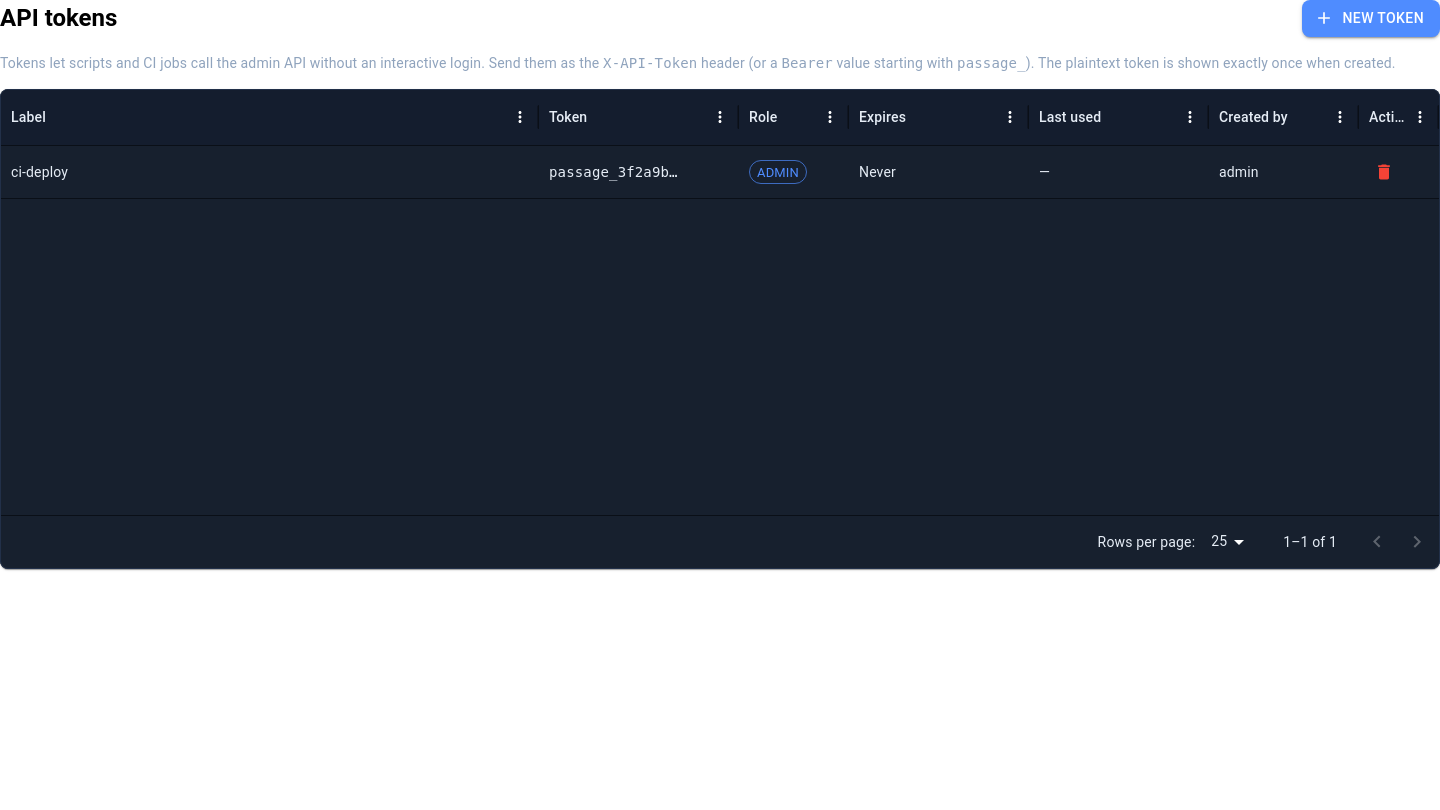
it: ApiTokensPage › requires a label before creating
This screenshot has width=1440, height=810.
Expected: the text "ci-deploy" is shown, x1=11 y1=164 x2=68 y2=180
Click the button "New token" at (1371, 18), box x1=1302 y1=0 x2=1439 y2=36
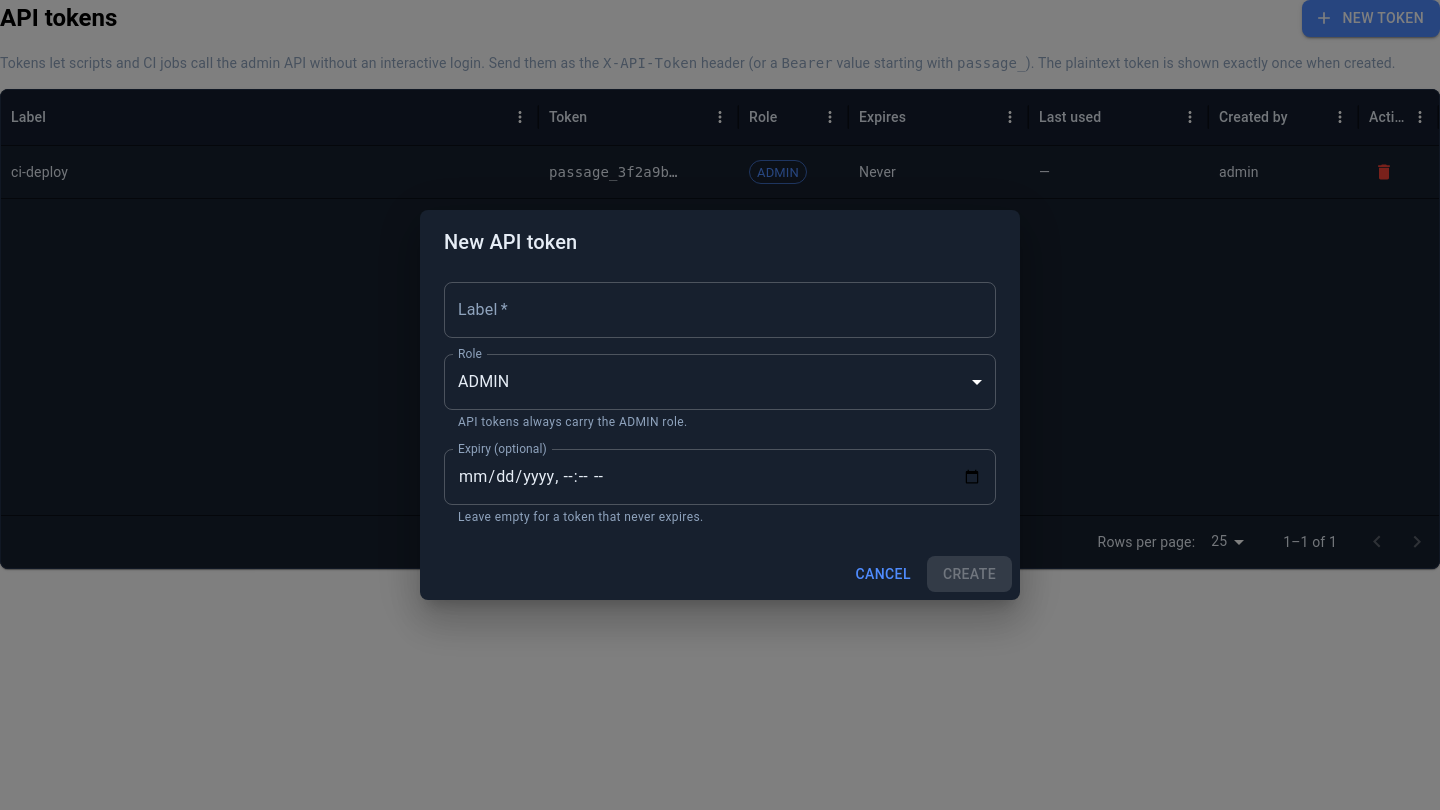
Expected: the button "Create" is disabled, x1=927 y1=556 x2=1012 y2=592
